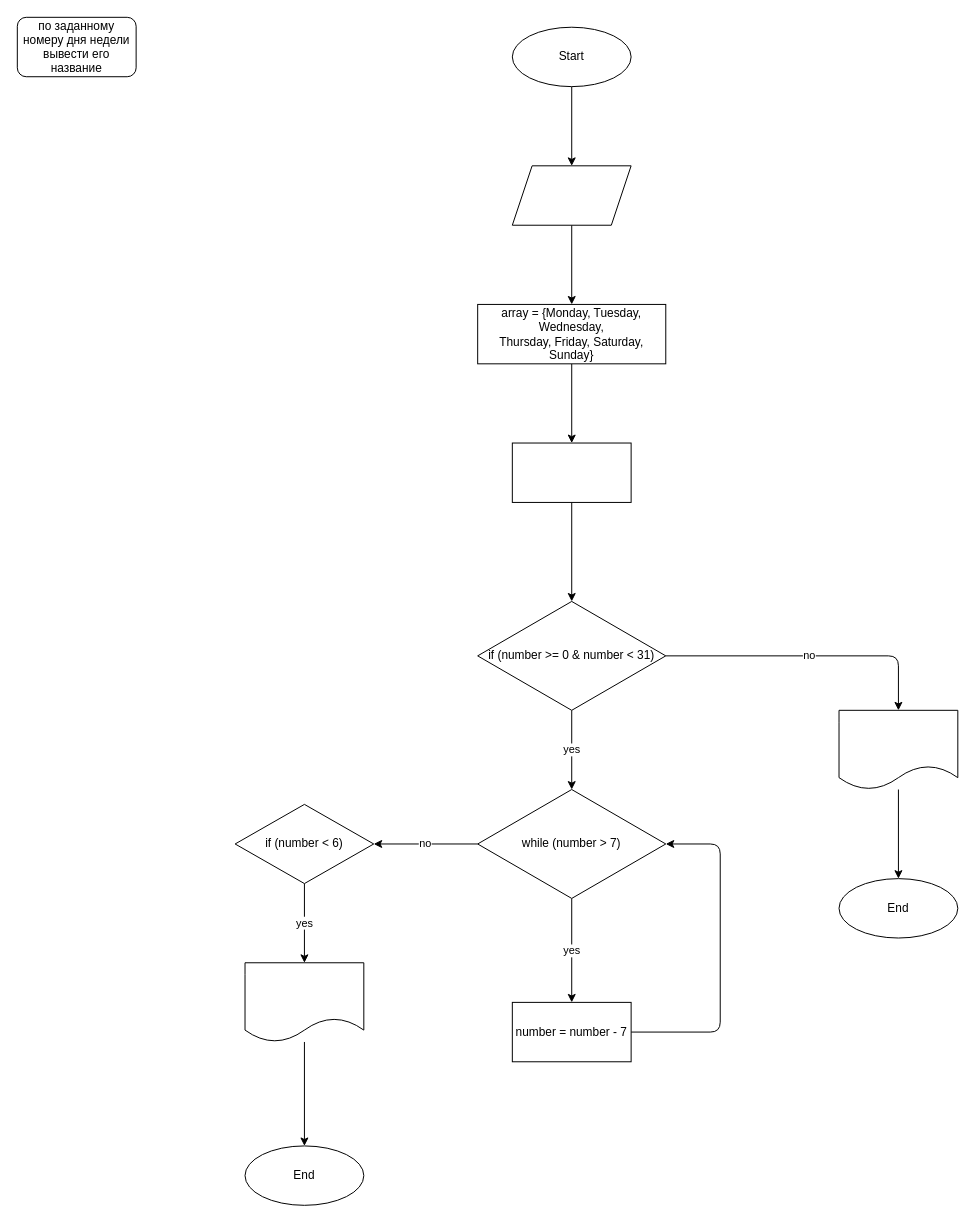
This 975x1223 diagram has some shape labels left out. The shapes that lost their labels are listed below. From the top down, each one's box as (x1, y1, x2, y2) in pixels, then its label:
(511, 165, 631, 225): number
(511, 442, 631, 502): number = number - 1
(838, 709, 958, 790): Print Incorrect number day
(244, 962, 364, 1042): Print array[number]
